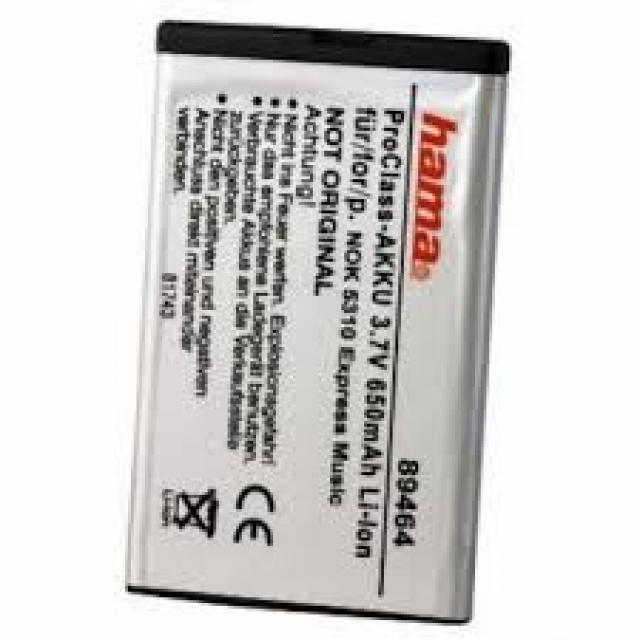non-organic waste: (124, 19, 520, 632)
